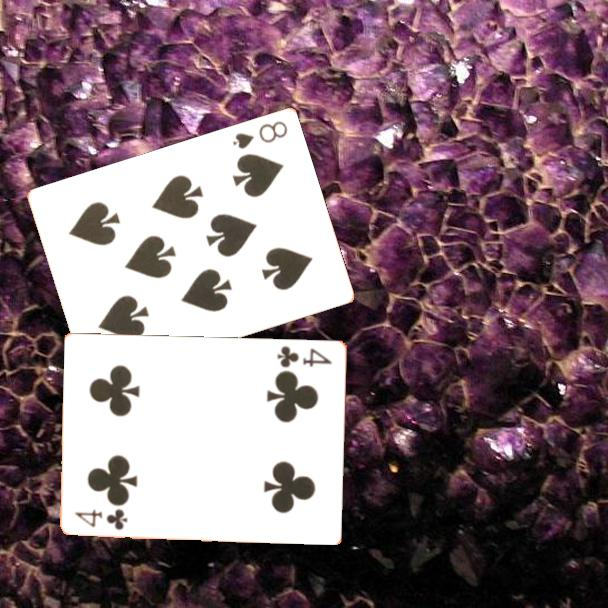c04: (274, 342, 335, 370), (71, 506, 131, 533)
s08: (229, 118, 290, 152)
